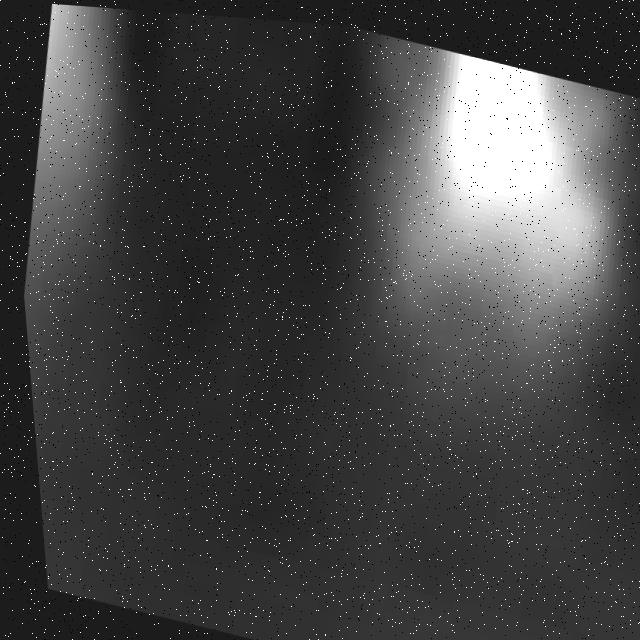person: (324, 27, 640, 479), (1, 1, 153, 473)
